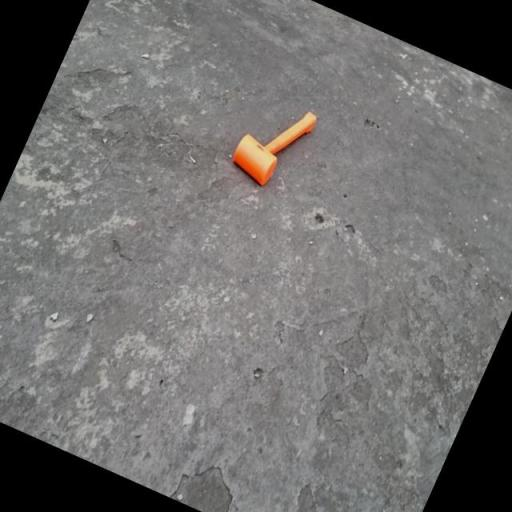mallet: (227, 90, 319, 195)
